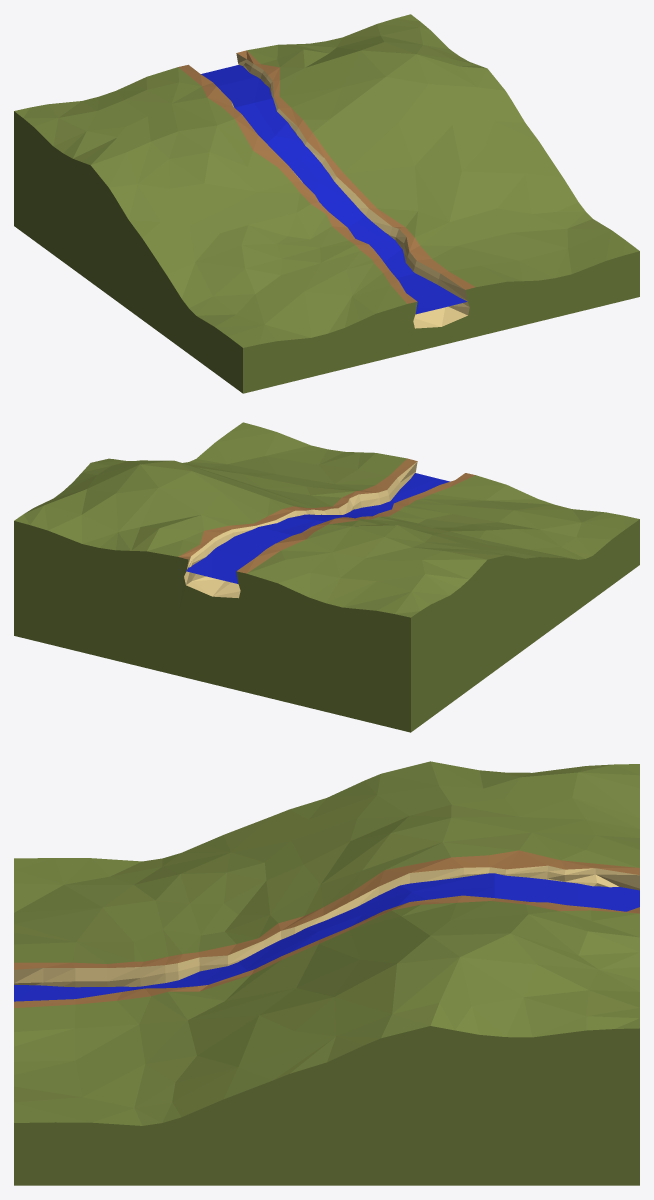
File: Terrian_River_Straight_Hill-01.fbx
3 renders of one model, top to bottom at view 1: azimuth 30°, elevation 25°; view 2: azimuth 150°, elevation 25°; view 3: azimuth 270°, elevation 25°, orthographic. The views are drawn at different scales.
Visible parts, largest first — view 1: Terrian_River_Straight_Hill-01; view 2: Terrian_River_Straight_Hill-01; view 3: Terrian_River_Straight_Hill-01.
Boxes of the visible parts, <box> form: Terrian_River_Straight_Hill-01: <box>14,14,639,393</box>; Terrian_River_Straight_Hill-01: <box>14,422,639,732</box>; Terrian_River_Straight_Hill-01: <box>14,761,639,1185</box>.
Size of the model in its own units: 3600 by 1195 by 3600.
